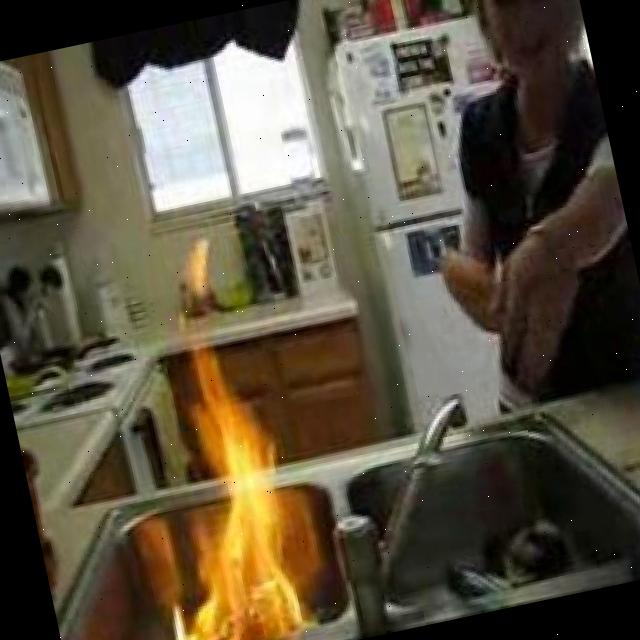fire: (119, 320, 316, 640)
